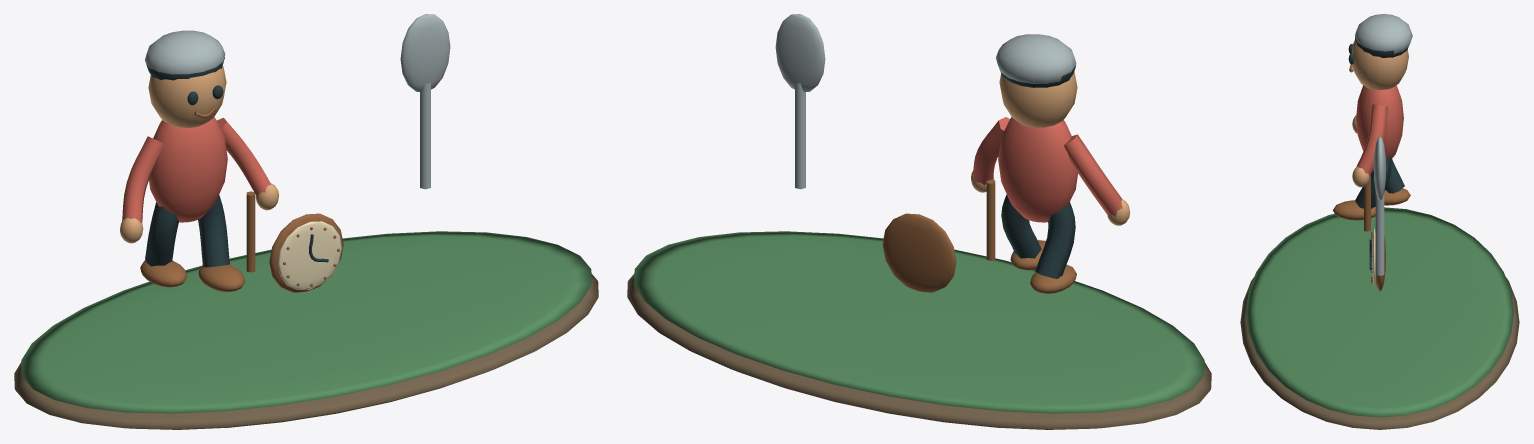
The model's file is complete-first-old-spoon.glb.
The picture shows the model from 3 angles, left to right: view 1: azimuth 30°, elevation 25°; view 2: azimuth 150°, elevation 25°; view 3: azimuth 270°, elevation 25°; orthographic projection. The views are drawn at different scales.
Visible parts, largest first — view 1: complete-first-old-spoon_surface_01, complete-first-old-spoon_surface_00, complete-first-old-spoon_surface_05, complete-first-old-spoon_surface_06, complete-first-old-spoon_surface_04, complete-first-old-spoon_surface_02, complete-first-old-spoon_surface_03, complete-first-old-spoon_surface_07; view 2: complete-first-old-spoon_surface_01, complete-first-old-spoon_surface_00, complete-first-old-spoon_surface_05, complete-first-old-spoon_surface_06, complete-first-old-spoon_surface_04, complete-first-old-spoon_surface_03, complete-first-old-spoon_surface_02; view 3: complete-first-old-spoon_surface_01, complete-first-old-spoon_surface_00, complete-first-old-spoon_surface_06, complete-first-old-spoon_surface_05, complete-first-old-spoon_surface_02, complete-first-old-spoon_surface_04, complete-first-old-spoon_surface_03.
Boxes of the visible parts, x1,y1,x2,y2 form: complete-first-old-spoon_surface_01: (21,231,591,413); complete-first-old-spoon_surface_00: (14,274,598,429); complete-first-old-spoon_surface_05: (122,117,271,222); complete-first-old-spoon_surface_06: (145,14,450,189); complete-first-old-spoon_surface_04: (140,107,343,292); complete-first-old-spoon_surface_02: (120,65,278,243); complete-first-old-spoon_surface_03: (145,57,328,267); complete-first-old-spoon_surface_07: (277,221,342,289); complete-first-old-spoon_surface_01: (634,231,1204,413); complete-first-old-spoon_surface_00: (627,274,1211,429); complete-first-old-spoon_surface_05: (973,117,1122,222); complete-first-old-spoon_surface_06: (775,14,1076,189); complete-first-old-spoon_surface_04: (882,179,1076,293); complete-first-old-spoon_surface_03: (1001,66,1075,278); complete-first-old-spoon_surface_02: (971,71,1130,225); complete-first-old-spoon_surface_01: (1246,207,1513,417); complete-first-old-spoon_surface_00: (1240,277,1519,429); complete-first-old-spoon_surface_06: (1355,14,1412,275); complete-first-old-spoon_surface_05: (1355,85,1403,177); complete-first-old-spoon_surface_02: (1351,40,1408,187); complete-first-old-spoon_surface_04: (1332,64,1410,290); complete-first-old-spoon_surface_03: (1348,37,1407,269).
Bounding box in the file's own units: 4.56 × 2.68 × 2.5.
